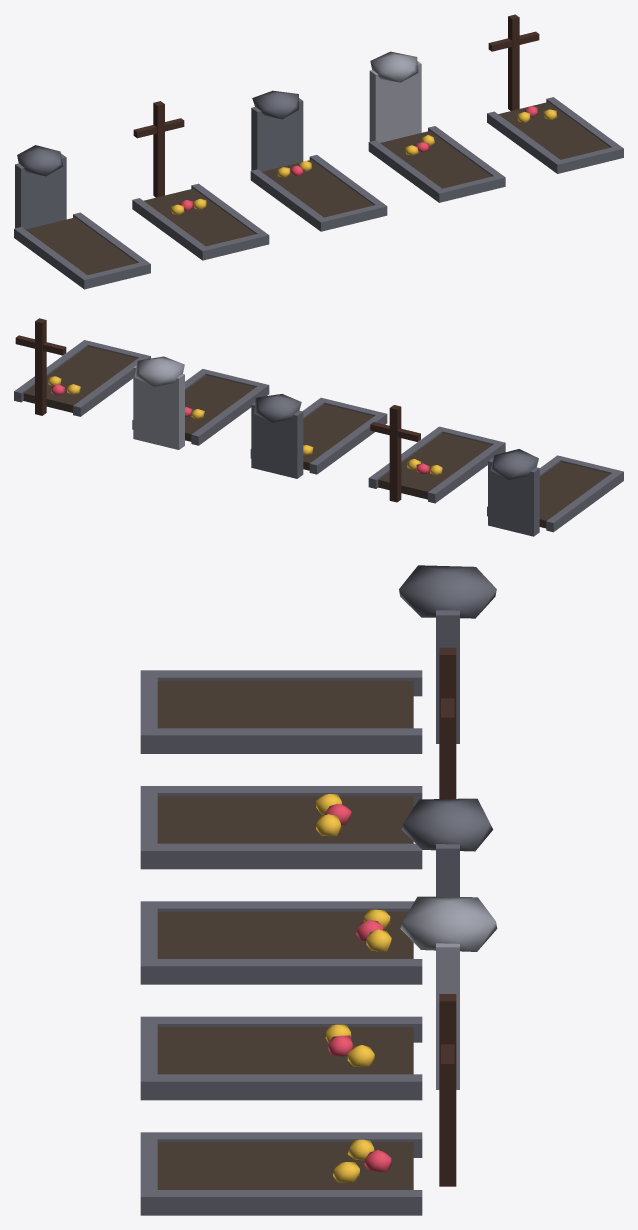
Rendered from village_graves.glb.
3 renders of one model, top to bottom at view 1: azimuth 30°, elevation 25°; view 2: azimuth 150°, elevation 25°; view 3: azimuth 270°, elevation 25°, orthographic. The views are drawn at different scales.
Parts seen in each view (by area): view 1: stone0; view 2: stone0; view 3: stone0.
Boxes of the visible parts, x1,y1,x2,y2 form: stone0: [14, 14, 623, 289]; stone0: [14, 318, 623, 536]; stone0: [140, 565, 497, 1215].
Size of the model in its own units: 7.3 by 1.2 by 2.09.
